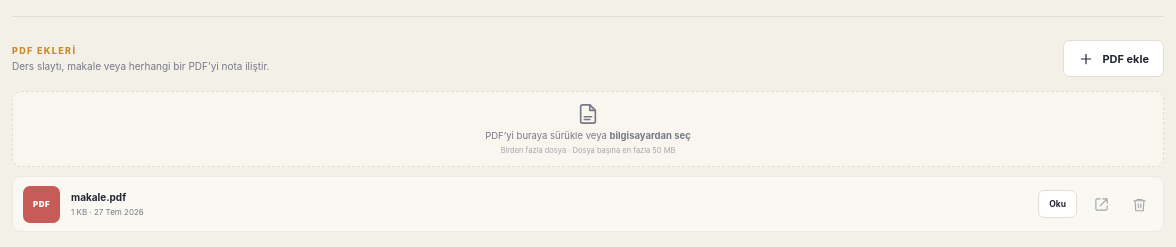
it: PDF ekleri › diskten silinemeyen PDF'yi nottan kaldırıp kaybettirmez
The width and height of the screenshot is (1176, 247).
Click the button named "PDF'yi sil": click(1139, 204) [1125,190,1153,218]
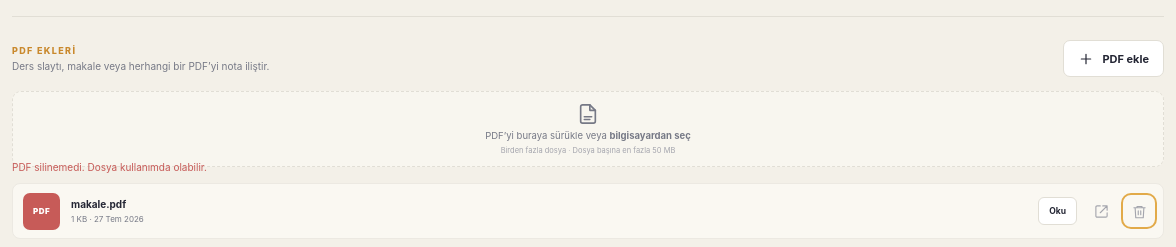
Expected: the text "PDF silinemedi. Dosya kullanımda olabilir." is shown, [12,161,207,173]
